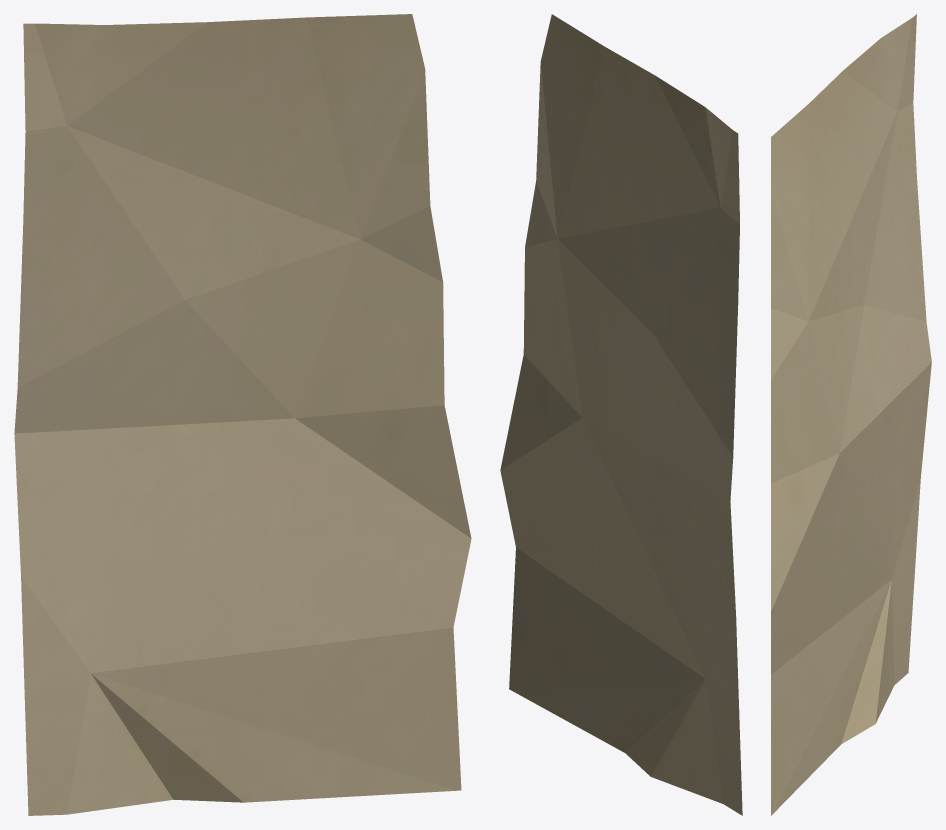
3 renders of one model, left to right at view 1: azimuth 30°, elevation 25°; view 2: azimuth 150°, elevation 25°; view 3: azimuth 270°, elevation 25°, orthographic. The views are drawn at different scales.
Bounding box in the file's own units: 0.401 × 0.8374 × 0.1852.
2 materials, 2 textured.
